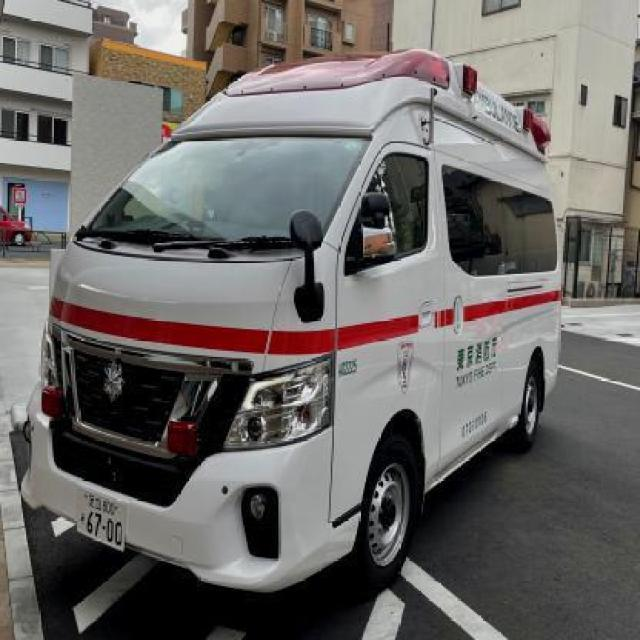emergency: (10, 47, 564, 598)
